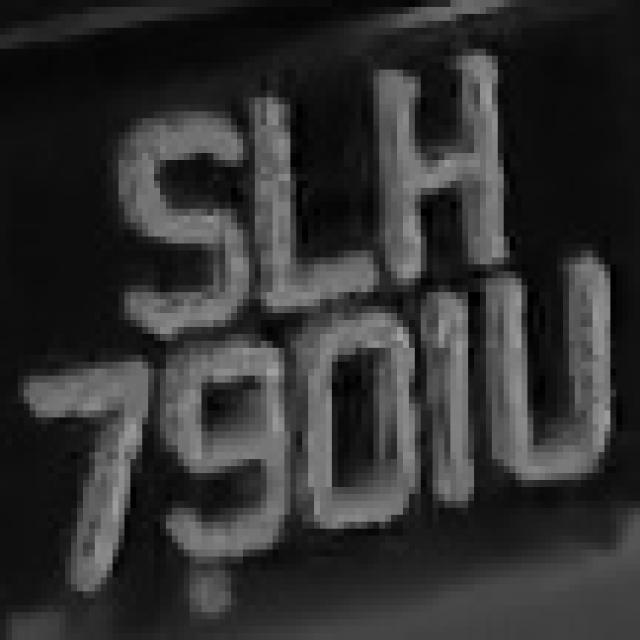0: (290, 299, 427, 543)
1: (409, 264, 498, 522)
7: (6, 362, 142, 612)
9: (142, 327, 302, 598)
H: (373, 42, 528, 278)
L: (255, 83, 373, 348)
S: (106, 97, 255, 348)
U: (486, 236, 622, 522)
